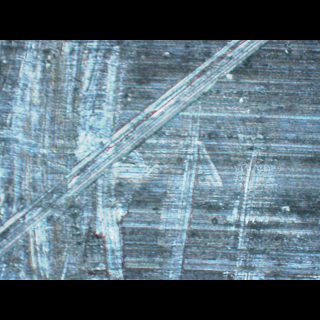d: (0, 39, 126, 278), (154, 114, 290, 278), (142, 39, 276, 128)
